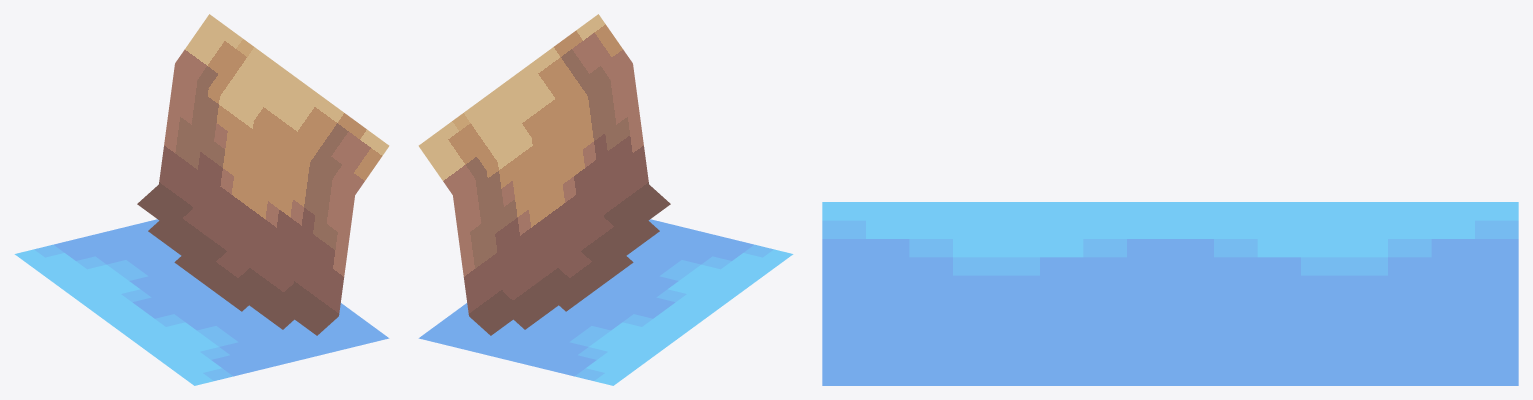
3 views of the same model, side by side, from view 1: azimuth 30°, elevation 25°; view 2: azimuth 150°, elevation 25°; view 3: azimuth 270°, elevation 25° (orthographic). The views are drawn at different scales.
Bounding box in the file's own units: 0.625 × 0.5896 × 1.
2 materials, 2 textured.
